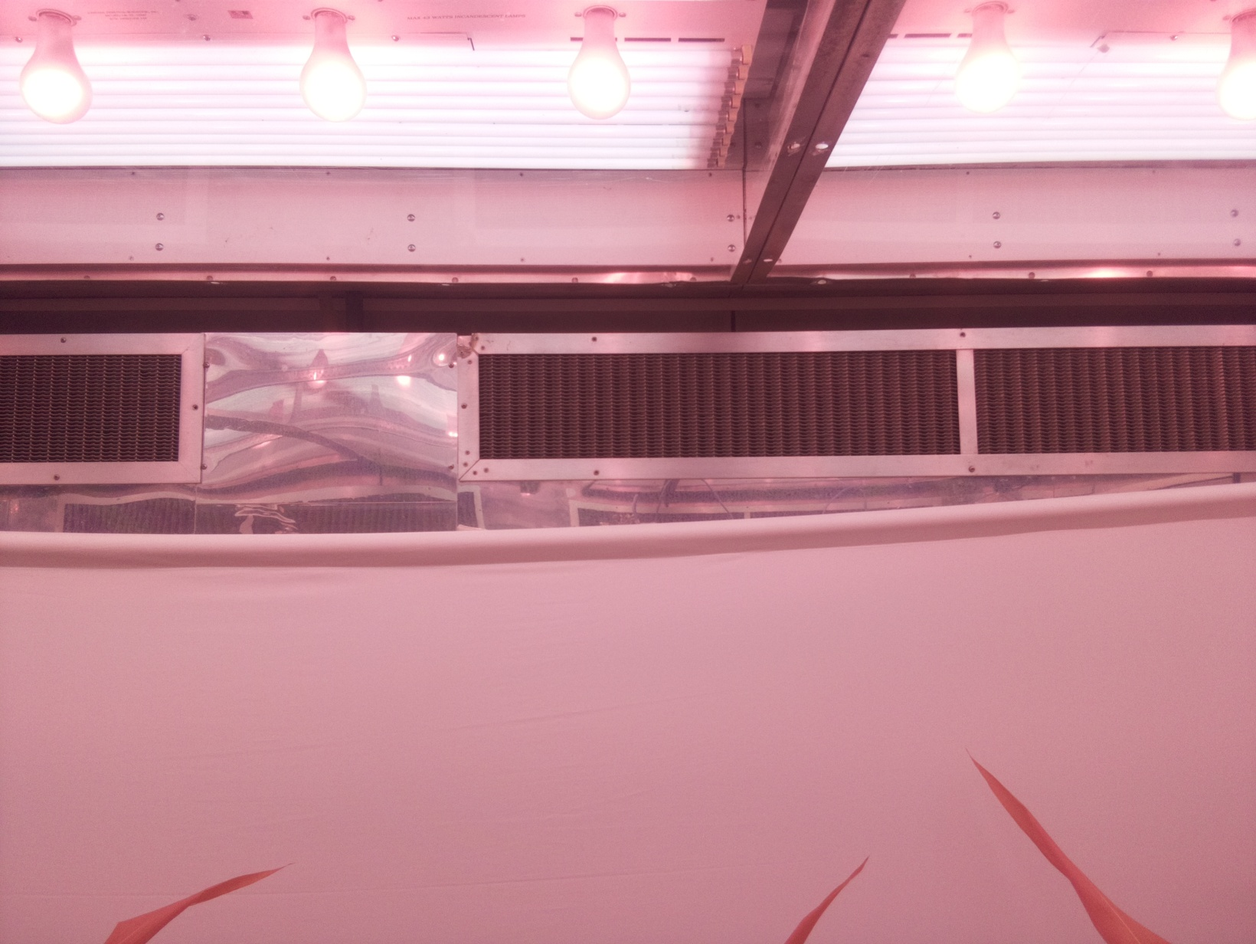maize: (963, 746, 1166, 944), (103, 861, 299, 944), (782, 855, 873, 944)
